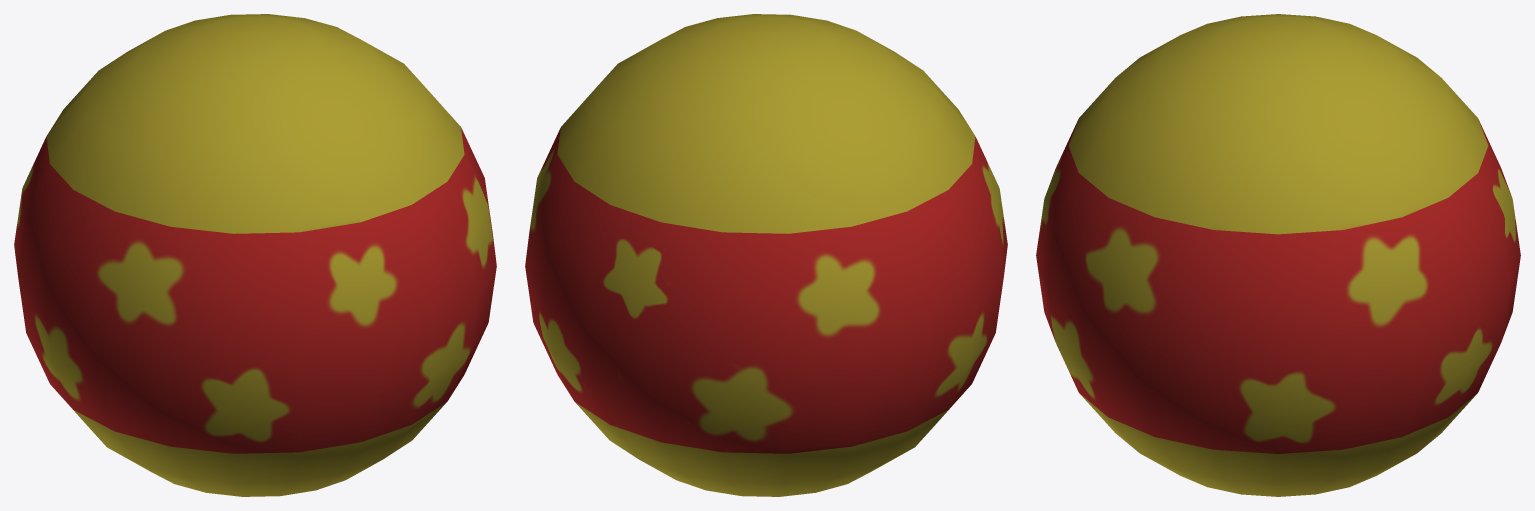
Rendered from pallo01.fbx.
3 renders of one model, left to right at view 1: azimuth 30°, elevation 25°; view 2: azimuth 150°, elevation 25°; view 3: azimuth 270°, elevation 25°, orthographic.
Visible parts, largest first — view 1: Sphere.001; view 2: Sphere.001; view 3: Sphere.001.
Part boxes in pixels (x1=…): Sphere.001: x1=14, y1=14, x2=496, y2=496; Sphere.001: x1=525, y1=14, x2=1007, y2=496; Sphere.001: x1=1036, y1=14, x2=1520, y2=496.
Size of the model in its own units: 200 by 200 by 200.
Materials: 1 (1 with a texture image).
